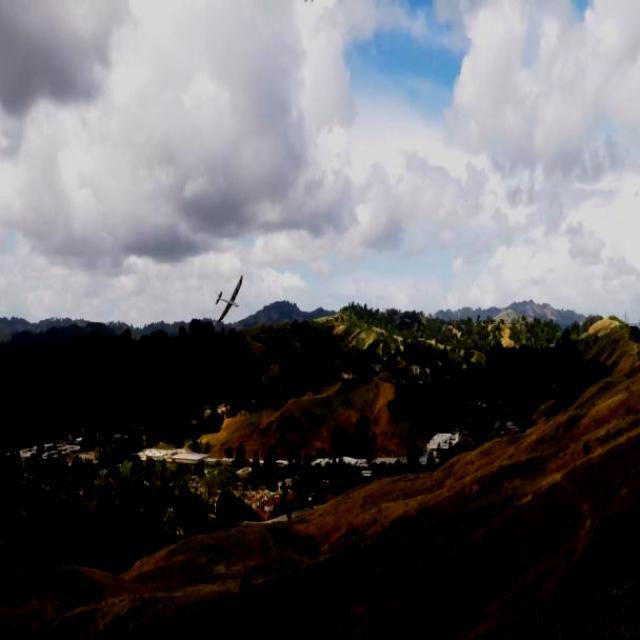iha: (204, 270, 258, 332)
